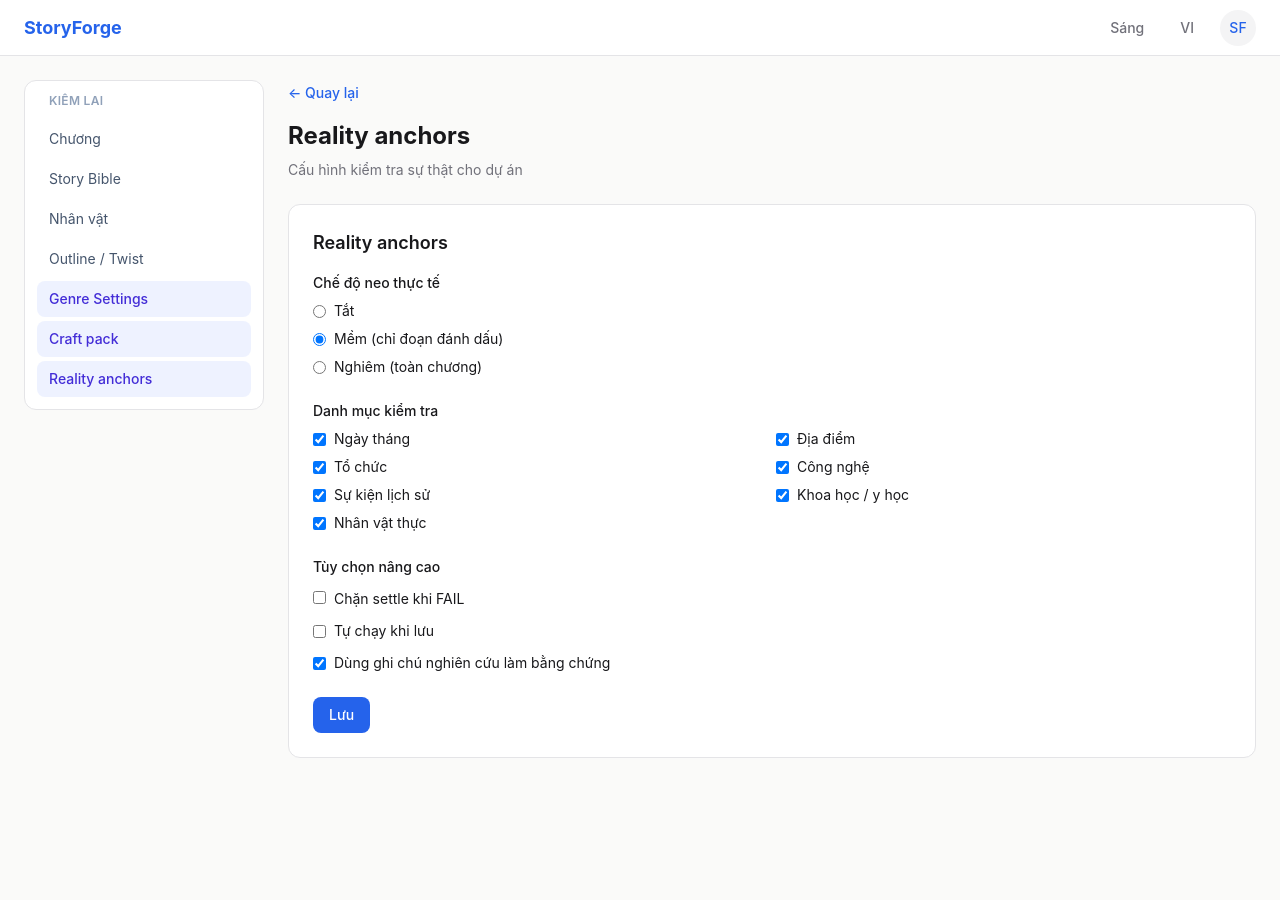
Test: reality settings › blocks_settle warning appears when enabled
This screenshot has width=1280, height=900.
Expected: the text "Chặn settle khi FAIL" is shown, [334,589,464,609]
Click the checkbox labelled "Chặn settle khi FAIL" at (320, 598), box [313,591,326,604]
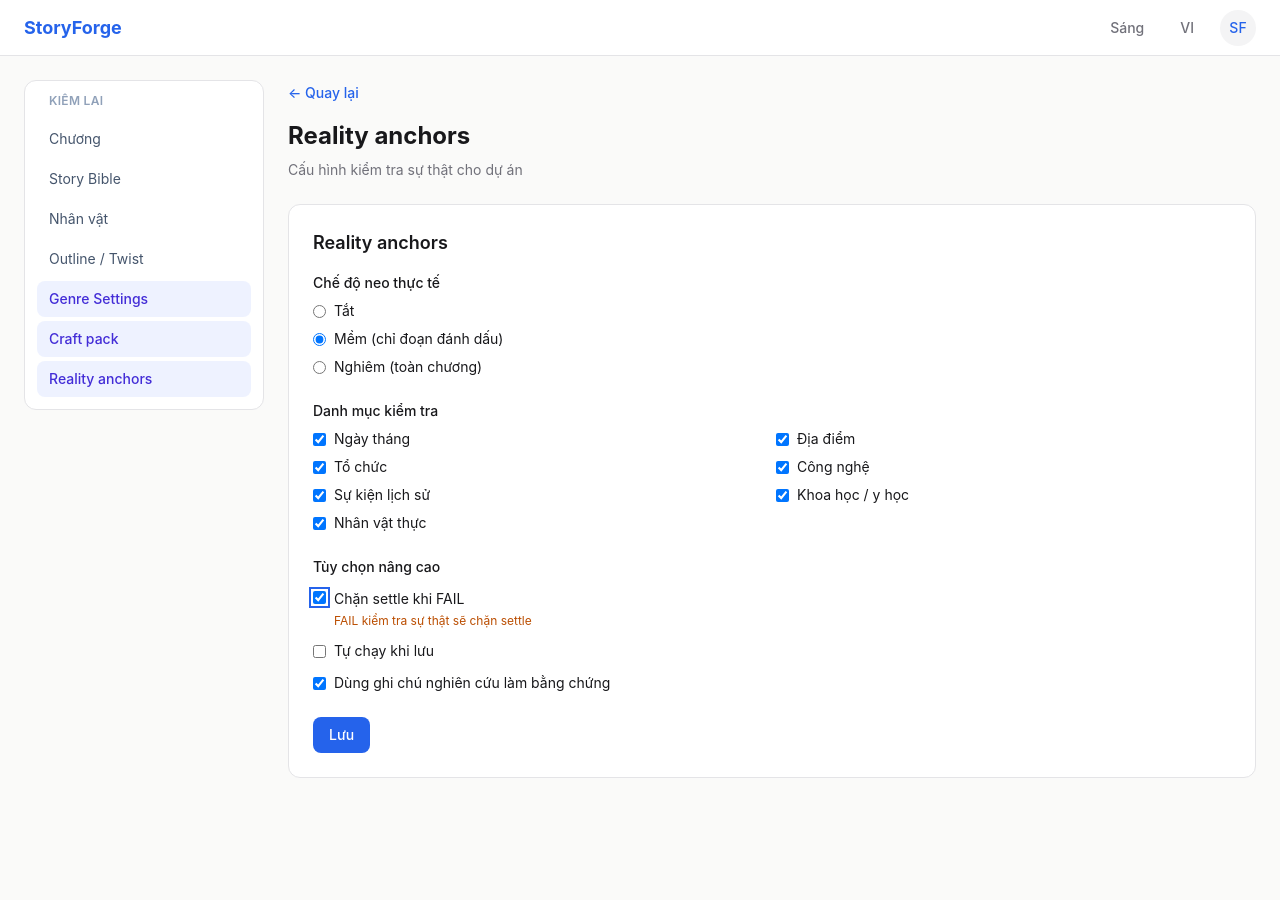
Expected: the text "FAIL kiểm tra sự thật sẽ chặn settle" is shown, [334,613,532,629]
